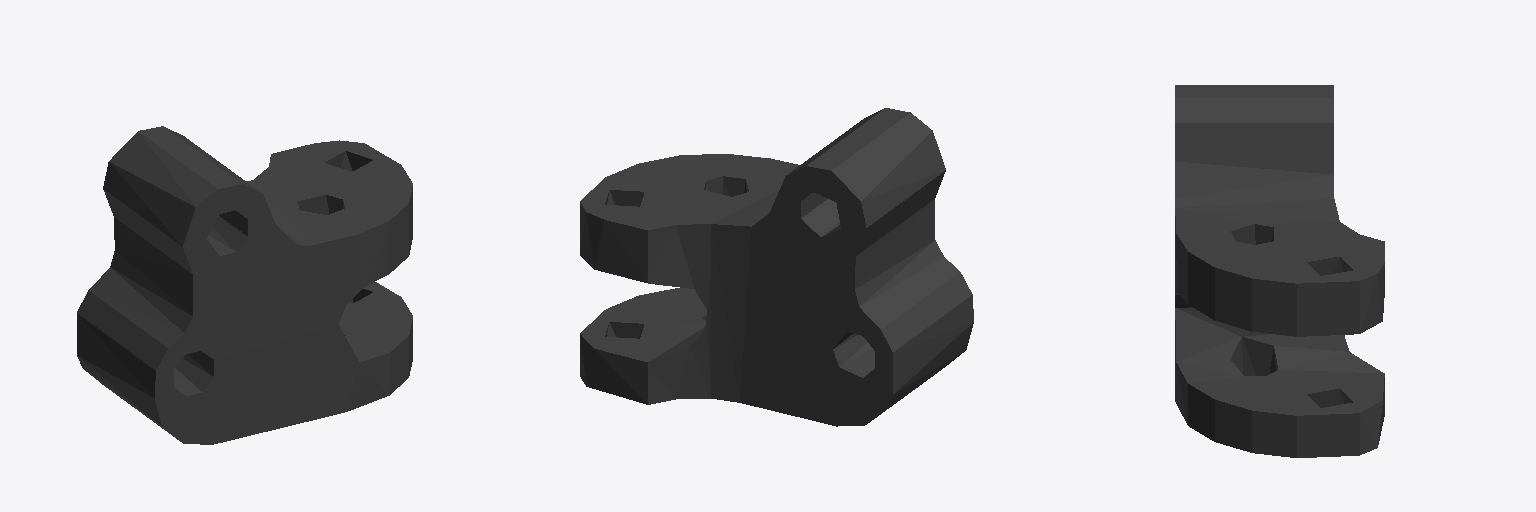
File: L_thumb_proximal_base.obj
The picture shows the model from 3 angles: view 1: azimuth 30°, elevation 25°; view 2: azimuth 150°, elevation 25°; view 3: azimuth 270°, elevation 25°; orthographic projection.
Bounding box in the file's own units: 0.0212 × 0.0168 × 0.0125.